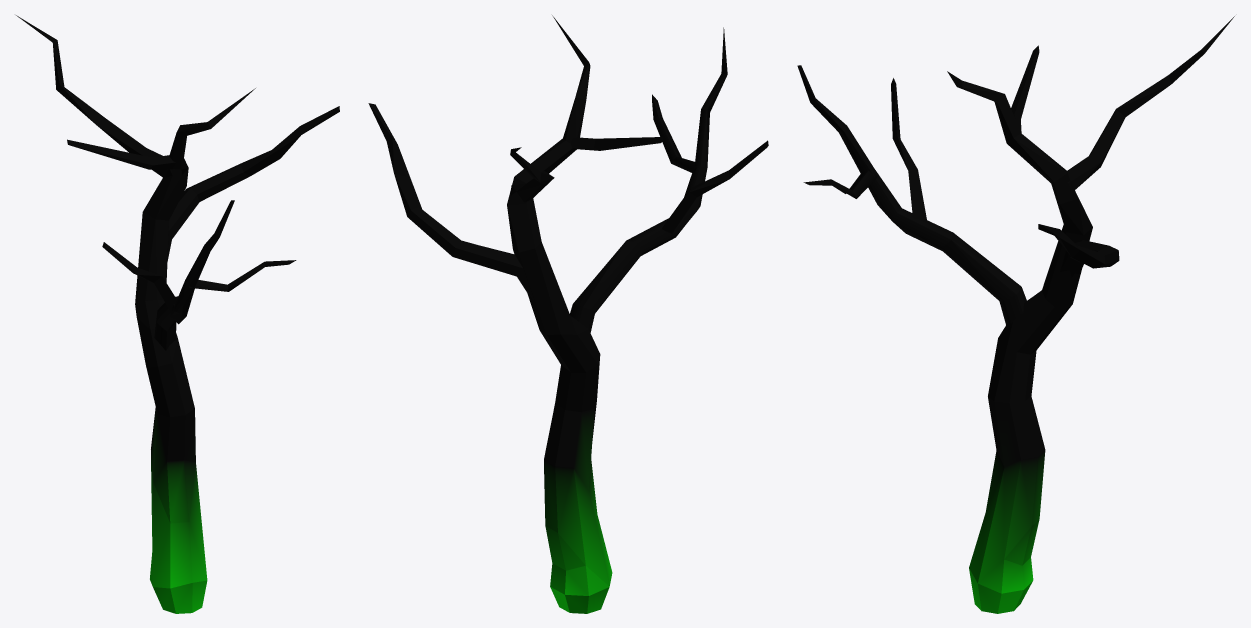
The model's file is SM_Collision_OakTree4.fbx.
The picture shows the model from 3 angles, left to right: view 1: azimuth 30°, elevation 25°; view 2: azimuth 150°, elevation 25°; view 3: azimuth 270°, elevation 25°; orthographic projection. The views are drawn at different scales.
Parts seen in each view (by area): view 1: Collision_OakTree4; view 2: Collision_OakTree4; view 3: Collision_OakTree4.
Part boxes in pixels (x1=…): Collision_OakTree4: x1=16, y1=15, x2=339, y2=613; Collision_OakTree4: x1=368, y1=15, x2=768, y2=613; Collision_OakTree4: x1=797, y1=16, x2=1234, y2=613.
Bounding box in the file's own units: 704 × 819 × 1154.
